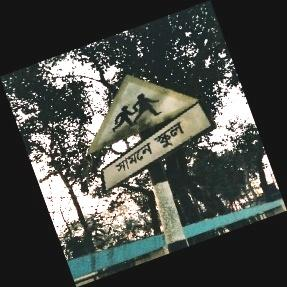School-in-front: (88, 75, 211, 192)
